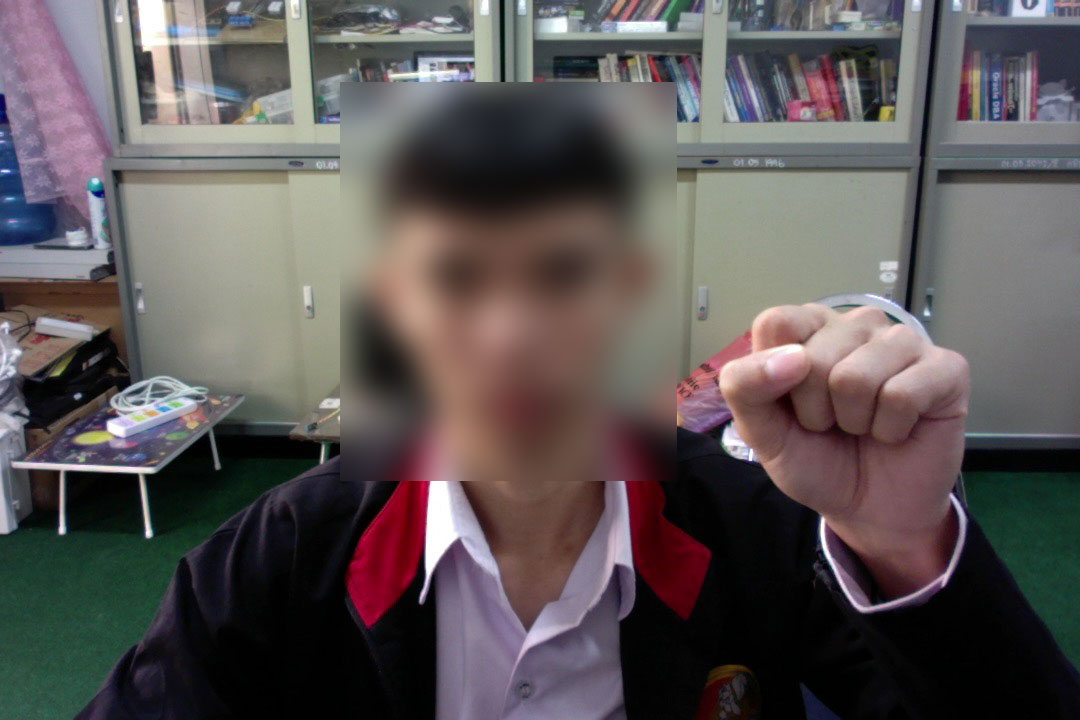sor: (712, 291, 978, 551)
